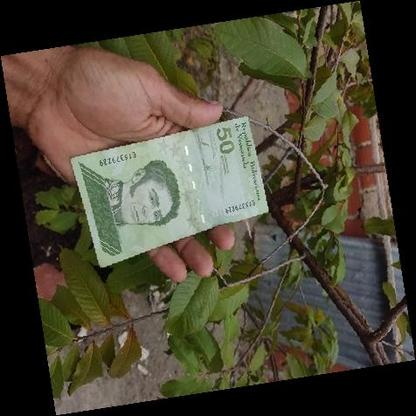fifty-front-vef: (68, 115, 269, 269)
